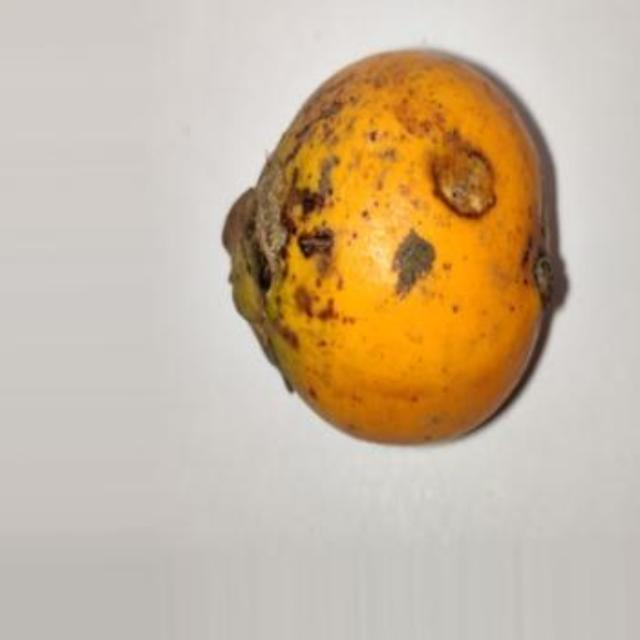good: (225, 51, 567, 446)
